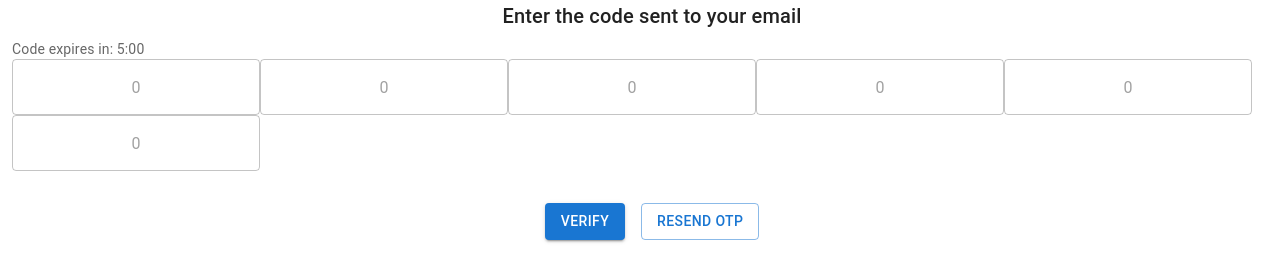
Scenario: LumoraOTP Component › Resend Functionality › shows cooldown timer after resend
The image size is (1269, 260).
Click the button "Resend Otp".
click(700, 221)  # box [641, 203, 759, 240]
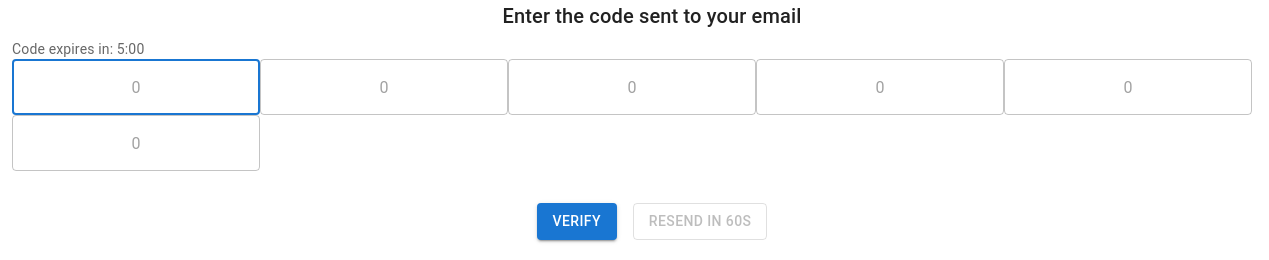
Now the button "Resend in 60s" is shown, box [633, 203, 768, 240]
